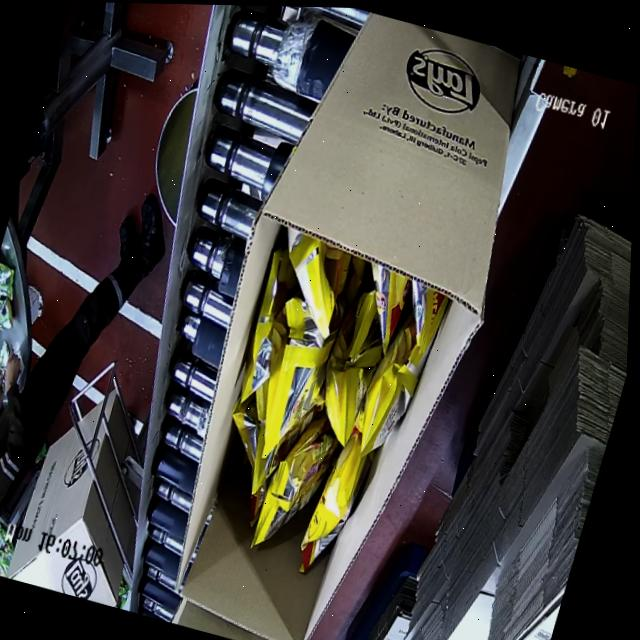SALTED: (181, 217, 448, 593)
